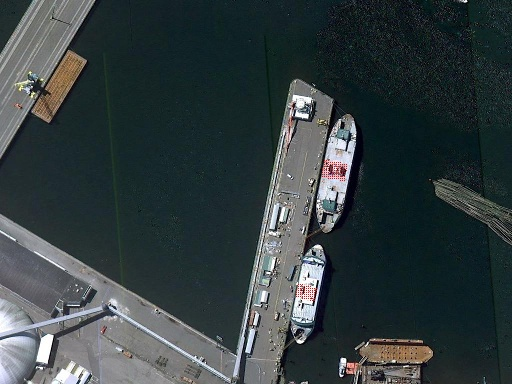ship: (309, 110, 363, 235), (285, 240, 332, 347)
